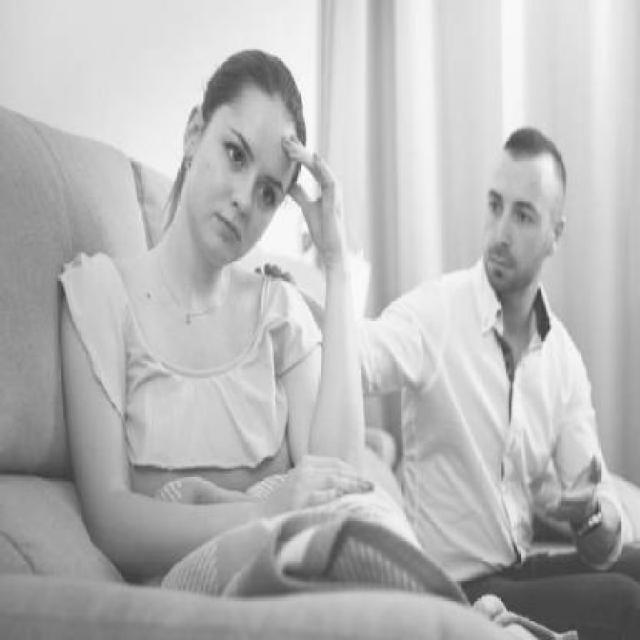angry: (205, 115, 282, 252)
